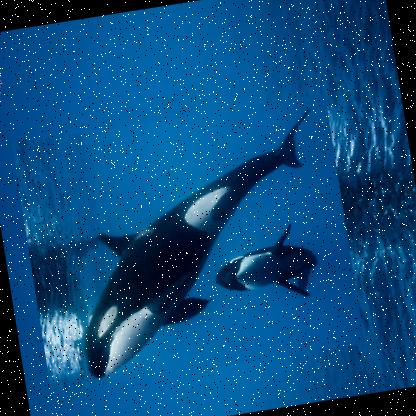killer_whale: (10, 93, 364, 394), (39, 178, 167, 270)
